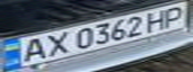0: (72, 25, 96, 50)
2: (124, 14, 151, 38)
3: (93, 21, 115, 46)
6: (109, 17, 130, 43)
A: (9, 35, 54, 64)
H: (139, 7, 175, 33)
P: (157, 3, 193, 29)
X: (36, 29, 72, 58)
